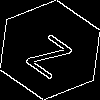Z: (25, 25, 80, 80)
